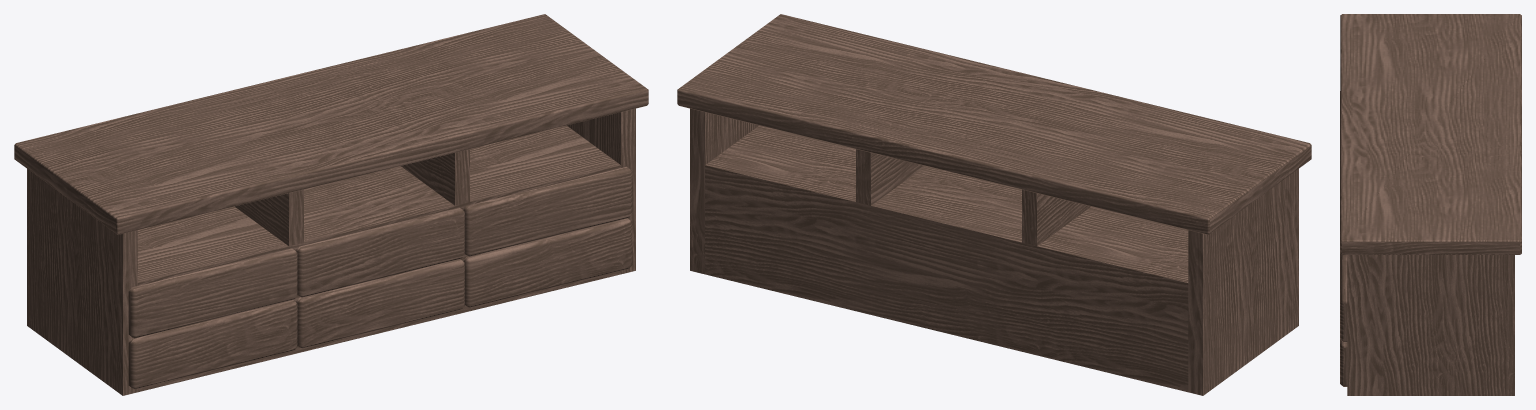
The model's file is dresser_036.fbx.
The picture shows the model from 3 angles, left to right: view 1: azimuth 30°, elevation 25°; view 2: azimuth 150°, elevation 25°; view 3: azimuth 270°, elevation 25°; orthographic projection. The views are drawn at different scales.
Parts seen in each view (by area): view 1: dresser_036; view 2: dresser_036; view 3: dresser_036.
Part boxes in pixels (x1,y1,x2,y2): dresser_036: [14, 14, 648, 395]; dresser_036: [677, 14, 1311, 395]; dresser_036: [1340, 14, 1521, 395].
Size of the model in its own units: 228 by 77.06 by 74.62.
